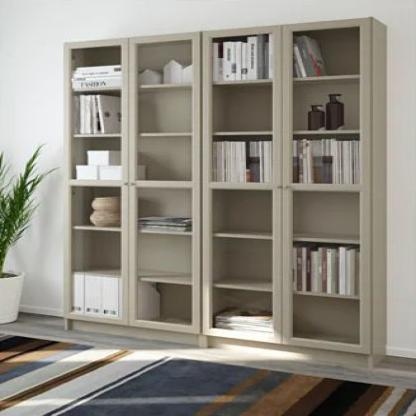lamp: (199, 15, 392, 374), (60, 31, 207, 350)
